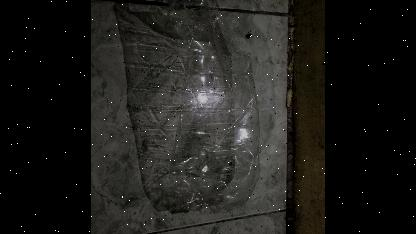Plastic Bottle: (161, 0, 260, 213)
